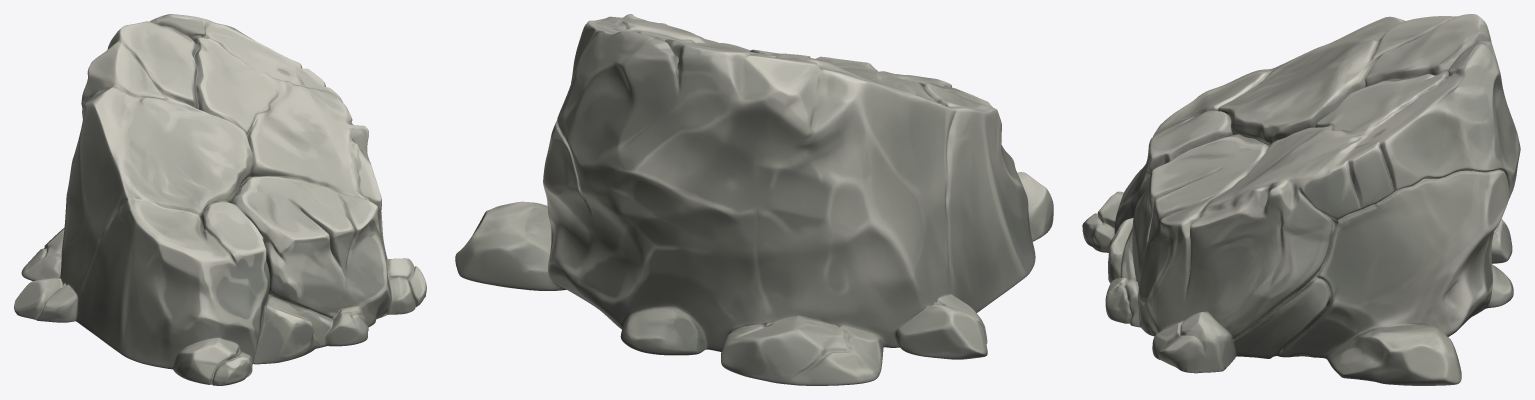
The model's file is Meshy_AI_Solitary_Boulder_0216151033_texture.fbx.
The picture shows the model from 3 angles, left to right: view 1: azimuth 30°, elevation 25°; view 2: azimuth 150°, elevation 25°; view 3: azimuth 270°, elevation 25°; orthographic projection. The views are drawn at different scales.
Visible parts, largest first — view 1: Mesh_0; view 2: Mesh_0; view 3: Mesh_0.
Part boxes in pixels (<box>): Mesh_0: <box>14,14,426,385</box>; Mesh_0: <box>455,14,1053,385</box>; Mesh_0: <box>1082,14,1520,385</box>.
Bounding box in the file's own units: 190 × 111 × 172.
1 material, 1 textured.
